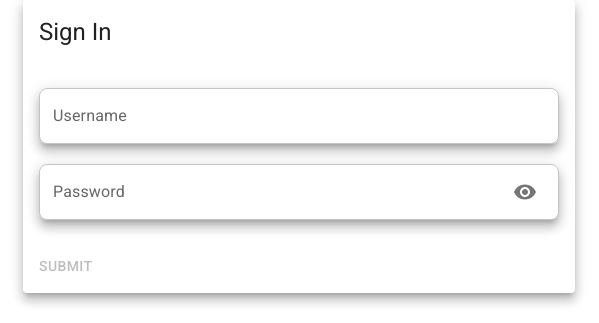
Scenario: Sign In form › should show password when clicking the reveal button
In the password field labelled "Password": {"x": 268, "y": 192} [39,164,497,220], type "HiddenPassword"
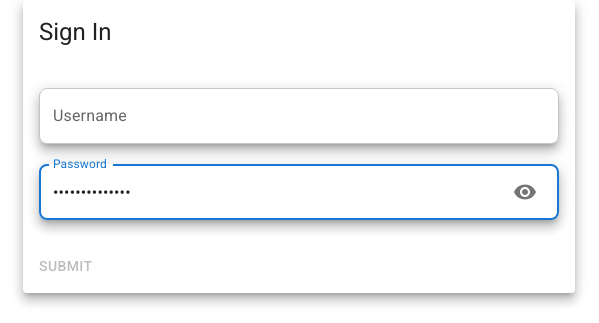
Click the button named "Show Password": {"x": 525, "y": 192} [505,172,545,212]
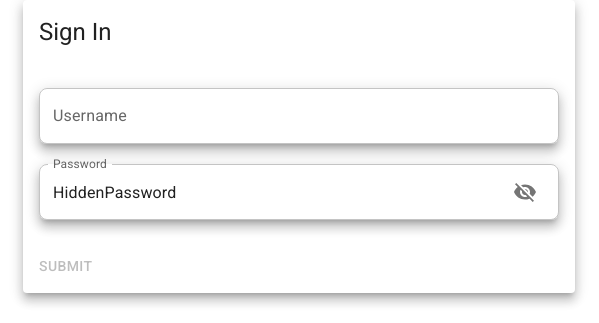
Check: the field labelled "Password" shows its text, box [39,164,497,220]
